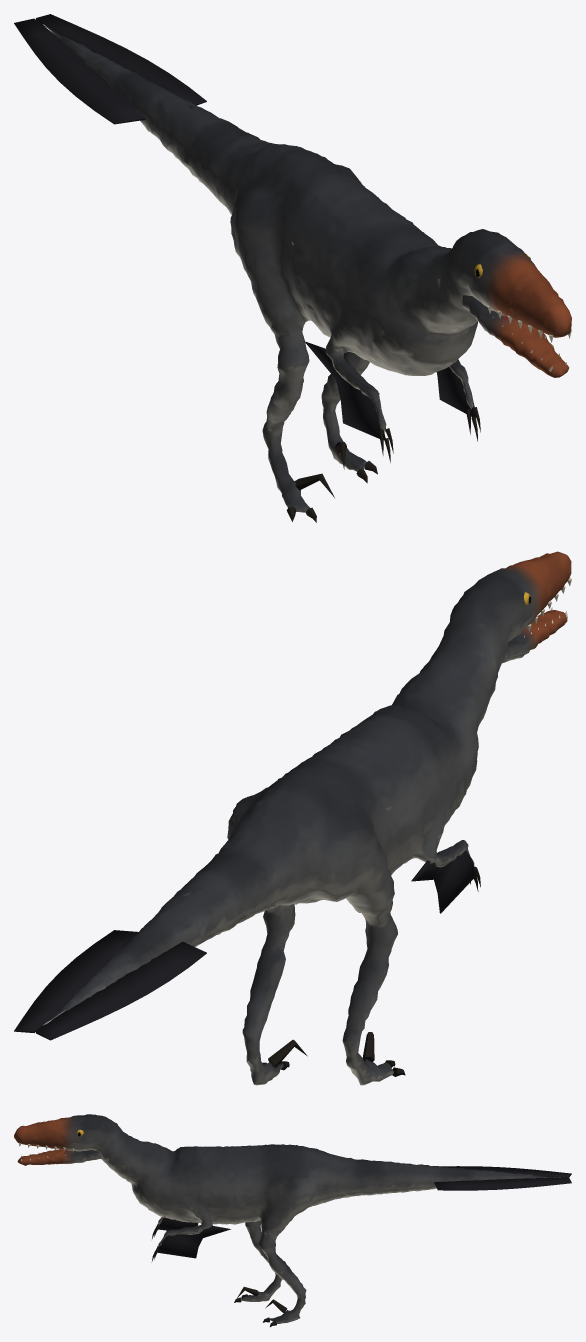
File: Deinonychus.fbx
3 renders of one model, top to bottom at view 1: azimuth 30°, elevation 25°; view 2: azimuth 150°, elevation 25°; view 3: azimuth 270°, elevation 25°, orthographic. The views are drawn at different scales.
Parts seen in each view (by area): view 1: Deinonychus; view 2: Deinonychus; view 3: Deinonychus.
Part boxes in pixels (bbox=[...]): Deinonychus: bbox=[14, 14, 571, 522]; Deinonychus: bbox=[14, 551, 571, 1085]; Deinonychus: bbox=[14, 1114, 571, 1326].
Bounding box in the file's own units: 0.2847 × 0.7605 × 1.95.
